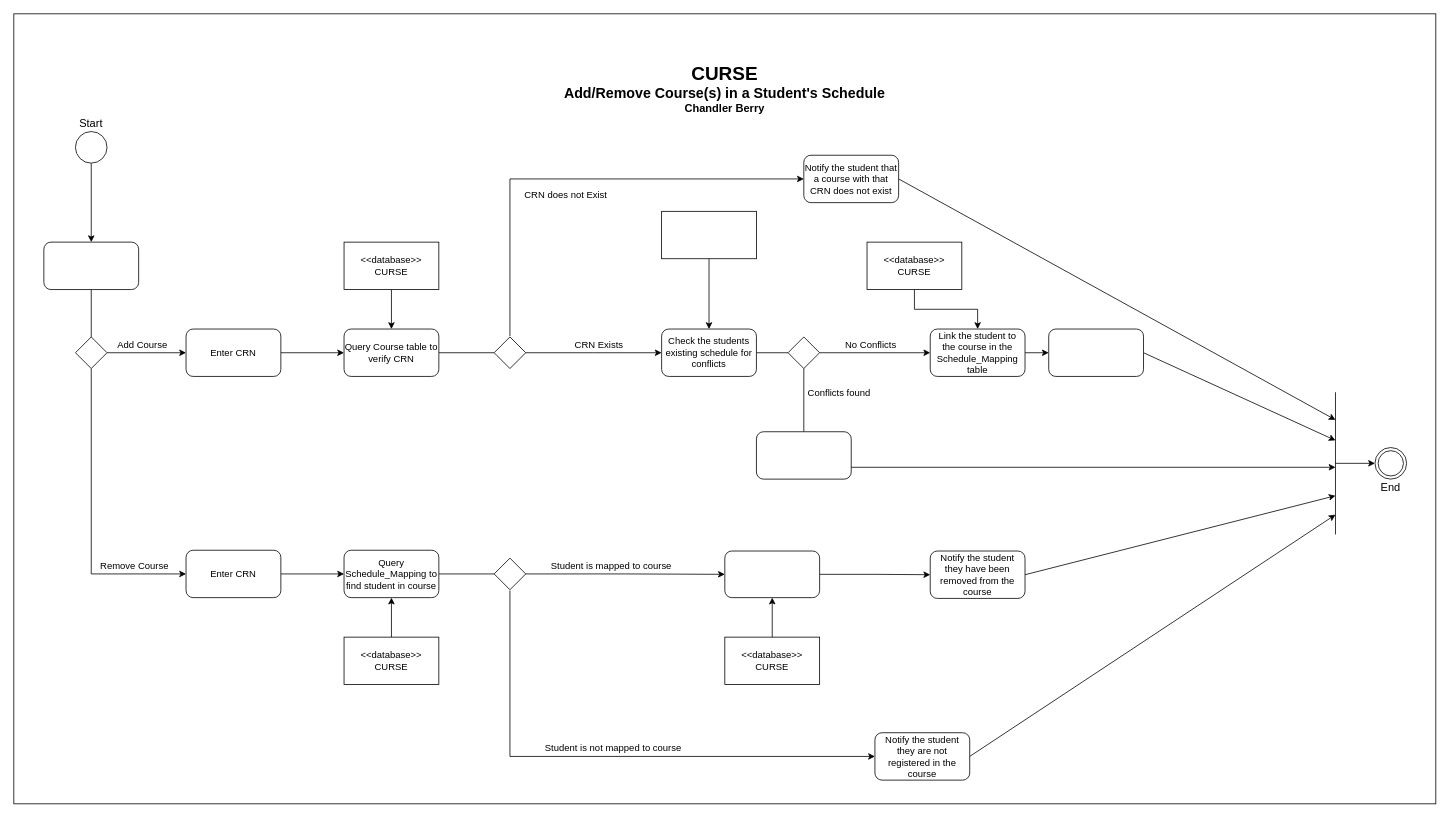
Some shapes in this 1450 by 818 pixel diagram are drawn without their labels. Here are the shapes that lost their labels. From the top down, the box of each, then its label:
(661, 211, 756, 259): <<function>> checkConflicts()
(43, 241, 139, 290): Student inputs menu selection
(1048, 328, 1144, 376): Notify the student they have been added to the course
(756, 431, 851, 479): Print the conflicts that have been identified to the user
(724, 550, 820, 598): Unlink the student from the course in the Schedule_Mapping table
